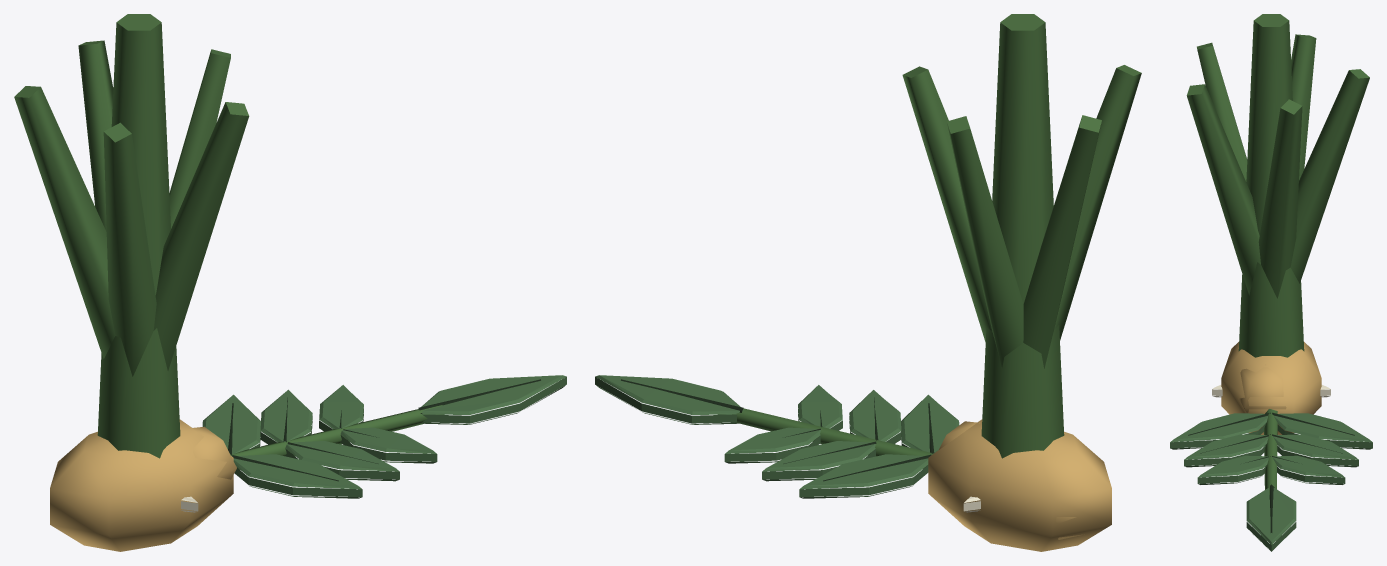
The model's file is potato.glb.
3 renders of one model, left to right at view 1: azimuth 30°, elevation 25°; view 2: azimuth 150°, elevation 25°; view 3: azimuth 270°, elevation 25°, orthographic. The views are drawn at different scales.
Visible parts, largest first — view 1: plant.crop-potato; view 2: plant.crop-potato; view 3: plant.crop-potato.
Boxes of the visible parts, x1,y1,x2,y2 form: plant.crop-potato: (14,14,566,551); plant.crop-potato: (595,14,1141,551); plant.crop-potato: (1170,14,1372,551).
Size of the model in its own units: 0.9798 by 0.9232 by 0.4141.
